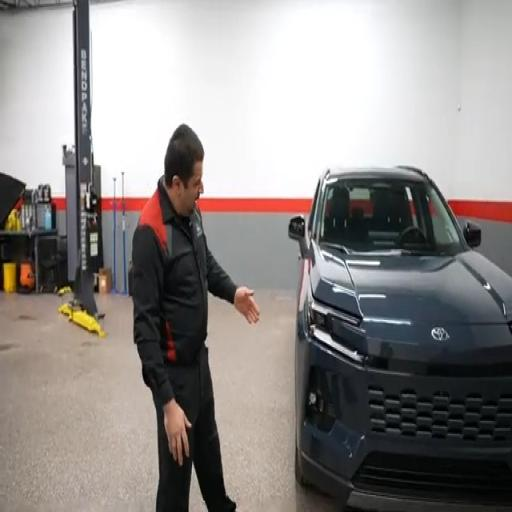bumper: (297, 338, 511, 510)
door: (307, 180, 322, 248)
emblem: (432, 328, 449, 341)
grille: (353, 453, 511, 504), (368, 387, 511, 442)
headlight: (305, 293, 363, 362)
hood: (311, 248, 511, 325)
side_mirror: (288, 215, 307, 257), (288, 215, 305, 241), (464, 222, 481, 247)
tire: (295, 439, 308, 487)
wheel: (295, 440, 308, 487)
windshield: (316, 178, 463, 254)
